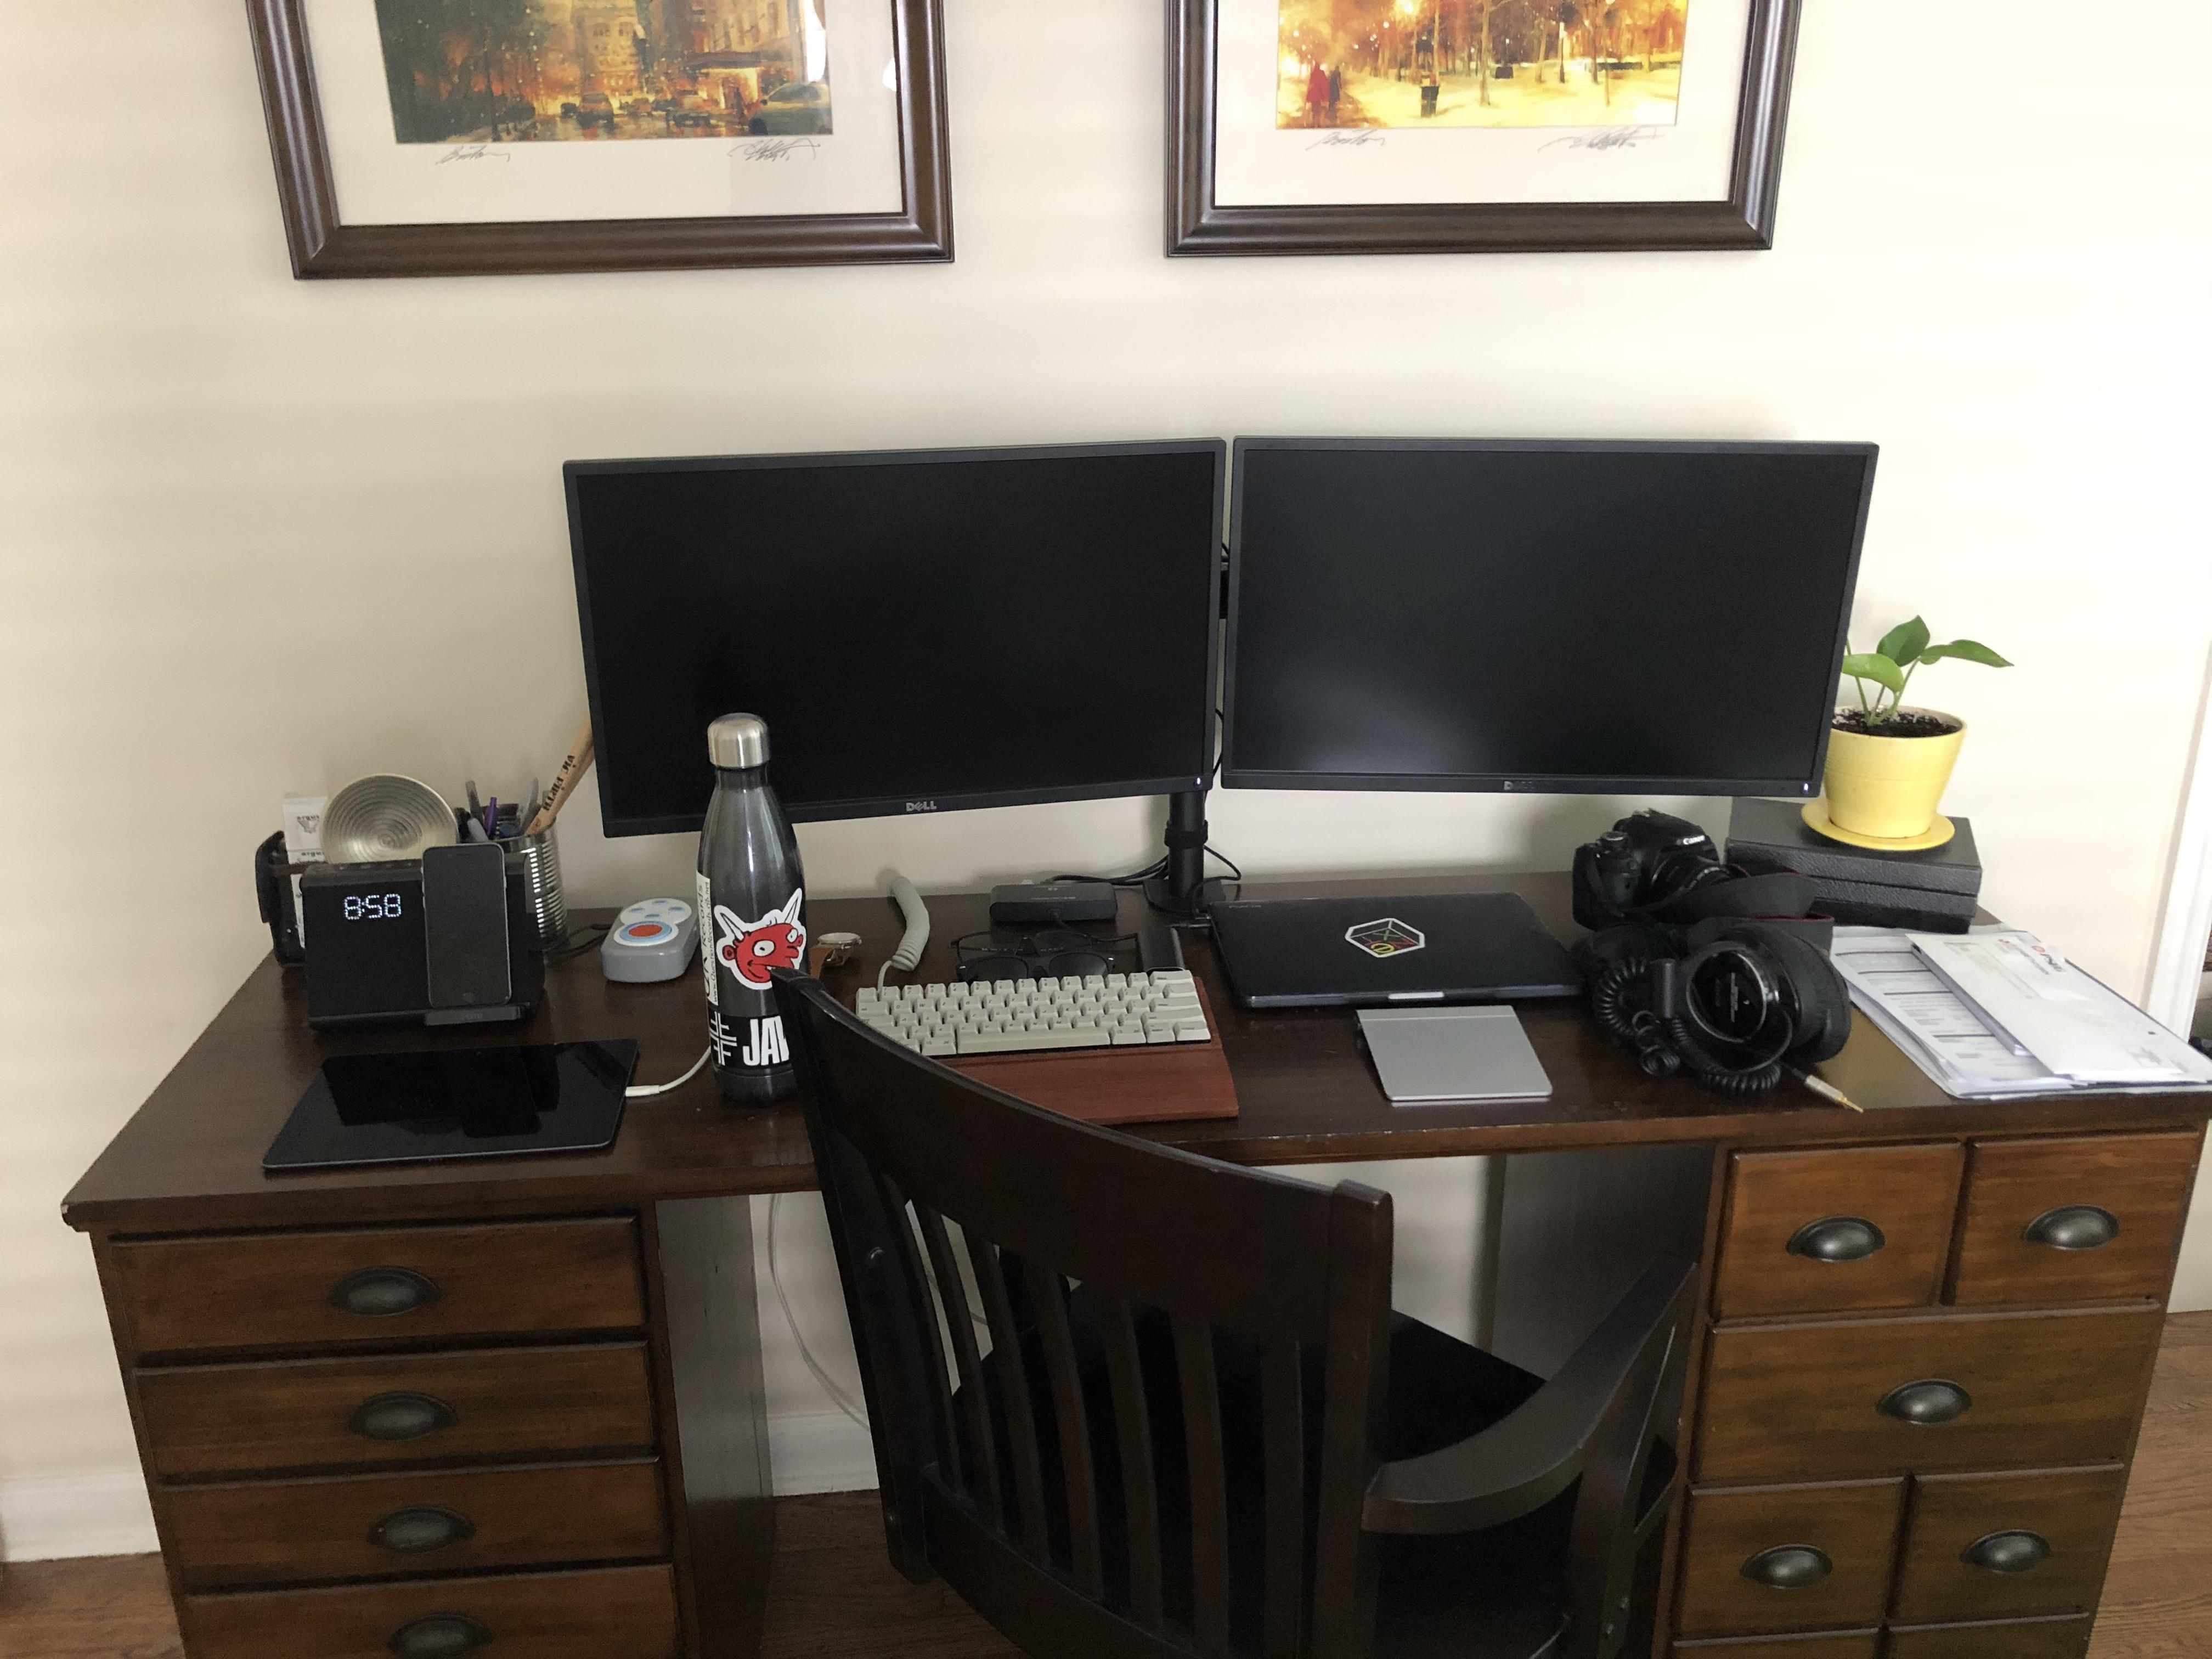Cellphone: (420, 836, 510, 1012)
Cellphone Charger (Generic): (300, 852, 543, 1021), (423, 999, 529, 1032)
Chair (Generic): (756, 965, 1707, 1659)
Decoration (Picture): (244, 0, 956, 289), (1160, 0, 1804, 268)
Decoration (Plant): (1799, 610, 2012, 856)
Decoration (Watch): (805, 931, 869, 983)
Desk (Generic): (56, 897, 2212, 1659)
Headphones: (1561, 917, 1869, 1138)
Keyboard (Generic): (841, 962, 1224, 1112)
Laptop (Generic): (1211, 877, 1580, 1026)
Monitor (Landscape): (547, 450, 1224, 843), (1219, 422, 1897, 816)
Mouse (Magic Trackpad): (1350, 992, 1561, 1122)
Storage Drawer: (1486, 1121, 2212, 1659), (85, 1206, 782, 1659)
Tablet (iPad): (258, 1037, 643, 1180)
Water Bottle: (697, 709, 805, 1098)
